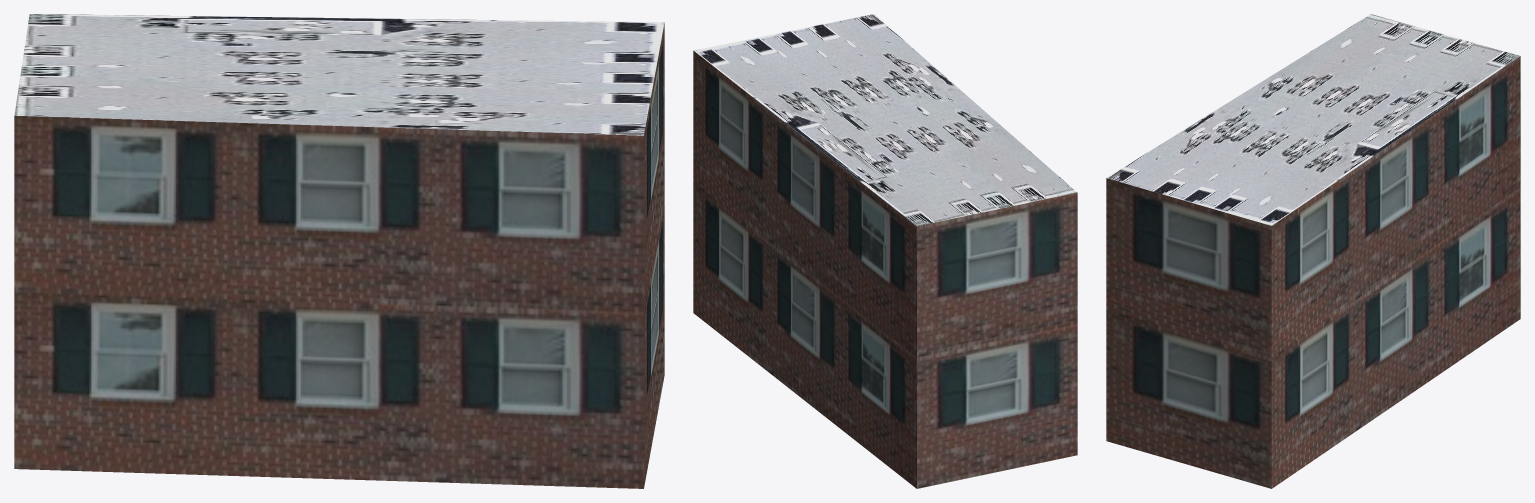
The model's file is ResTex__4851.fbx.
3 views of the same model, side by side, from view 1: azimuth 30°, elevation 25°; view 2: azimuth 150°, elevation 25°; view 3: azimuth 270°, elevation 25° (orthographic). The views are drawn at different scales.
Visible parts, largest first — view 1: CityEngineMaterial_14_m, CityEngineMaterial_4_m; view 2: CityEngineMaterial_14_m, CityEngineMaterial_4_m; view 3: CityEngineMaterial_14_m, CityEngineMaterial_4_m.
Part boxes in pixels (box(x1,y1,x2,y2)): CityEngineMaterial_14_m: box(14, 23, 664, 488); CityEngineMaterial_4_m: box(14, 14, 664, 135); CityEngineMaterial_14_m: box(693, 50, 1077, 488); CityEngineMaterial_4_m: box(694, 14, 1076, 226); CityEngineMaterial_14_m: box(1106, 56, 1520, 488); CityEngineMaterial_4_m: box(1107, 14, 1519, 225).
Size of the model in its own units: 10.37 by 6 by 8.57.
Materials: 2 (2 with a texture image).
